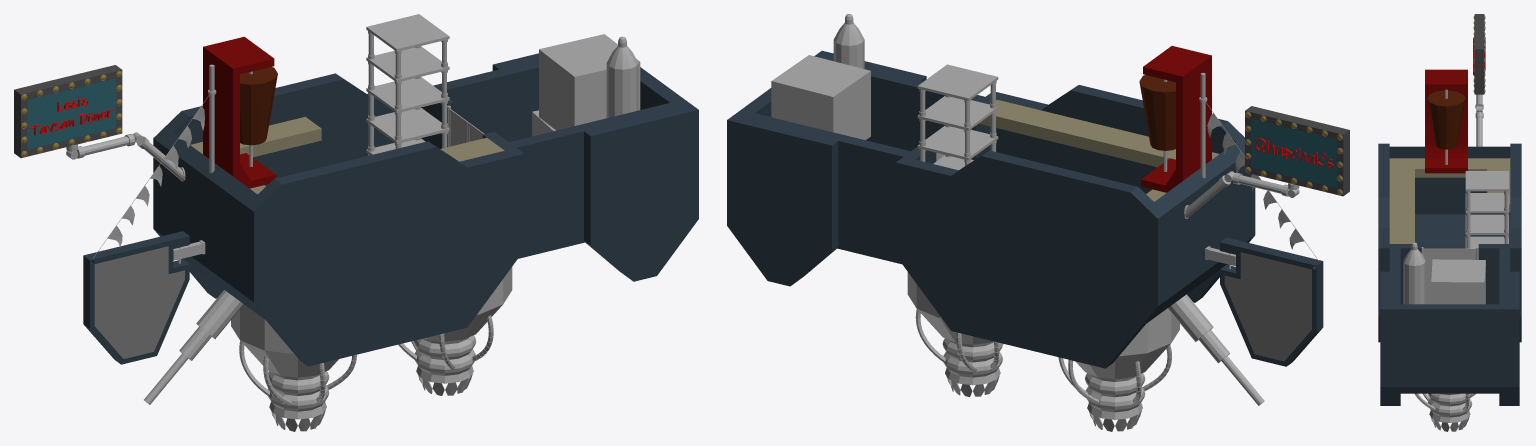
The model's file is quasi_ship.fbx.
The picture shows the model from 3 angles, left to right: view 1: azimuth 30°, elevation 25°; view 2: azimuth 150°, elevation 25°; view 3: azimuth 270°, elevation 25°; orthographic projection. The views are drawn at different scales.
Parts seen in each view (by area): view 1: pCube14, pCube18, pCylinder7 (×2), Look_at_the_tabela, pCube16, pCube2, pCube12, pCylinder3, pCube10, Antenna, pCylinder4, pCube9 (+4 smaller); view 2: pCube14, pCube18, pCylinder7 (×2), pCube16, Look_at_the_tabela, pCube2, pCube12, pCylinder3, pCube10, Antenna, pCube9, pCube8 (+2 smaller); view 3: pCube14, pCube12, pCube2, pCube16, pCylinder3, pCylinder7, pCylinder4, pCube10, pCube9, pCube8, Look_at_the_tabela, pCylinder17 (+3 smaller).
Part boxes in pixels (box(x1,y1,x2,y2)): pCube14: box(153, 53, 698, 366); pCube18: box(83, 231, 189, 364); pCylinder7 (×2): box(231, 267, 512, 431); Look_at_the_tabela: box(14, 65, 122, 158); pCube16: box(539, 34, 640, 130); pCube2: box(203, 36, 276, 188); pCube12: box(190, 116, 504, 194); pCylinder3: box(240, 67, 277, 145); pCube10: box(366, 14, 449, 78); Antenna: box(144, 290, 243, 404); pCylinder4: box(606, 36, 638, 117); pCube9: box(366, 46, 449, 109); pCube14: box(727, 50, 1255, 368); pCube18: box(1220, 237, 1323, 366); pCylinder7 (×2): box(907, 272, 1179, 431); pCube16: box(771, 55, 870, 140); Look_at_the_tabela: box(1245, 106, 1349, 196); pCube2: box(1141, 46, 1211, 192); pCube12: box(979, 99, 1219, 201); pCylinder3: box(1139, 75, 1175, 150); pCube10: box(917, 64, 998, 127); Antenna: box(1167, 294, 1264, 405); pCube9: box(917, 96, 998, 157); pCube8: box(917, 125, 998, 165); pCube14: box(1378, 143, 1521, 405); pCube12: box(1389, 158, 1510, 243); pCube2: box(1425, 69, 1467, 173); pCube16: box(1431, 259, 1485, 304); pCylinder3: box(1427, 90, 1465, 149); pCylinder7: box(1428, 393, 1471, 431); pCylinder4: box(1403, 242, 1425, 304); pCube10: box(1465, 171, 1508, 210); pCube9: box(1465, 193, 1508, 232); pCube8: box(1465, 214, 1508, 248); Look_at_the_tabela: box(1474, 14, 1484, 94); pCylinder17: box(1421, 247, 1449, 304).
Bounding box in the file's own units: 532 × 321 × 152.
